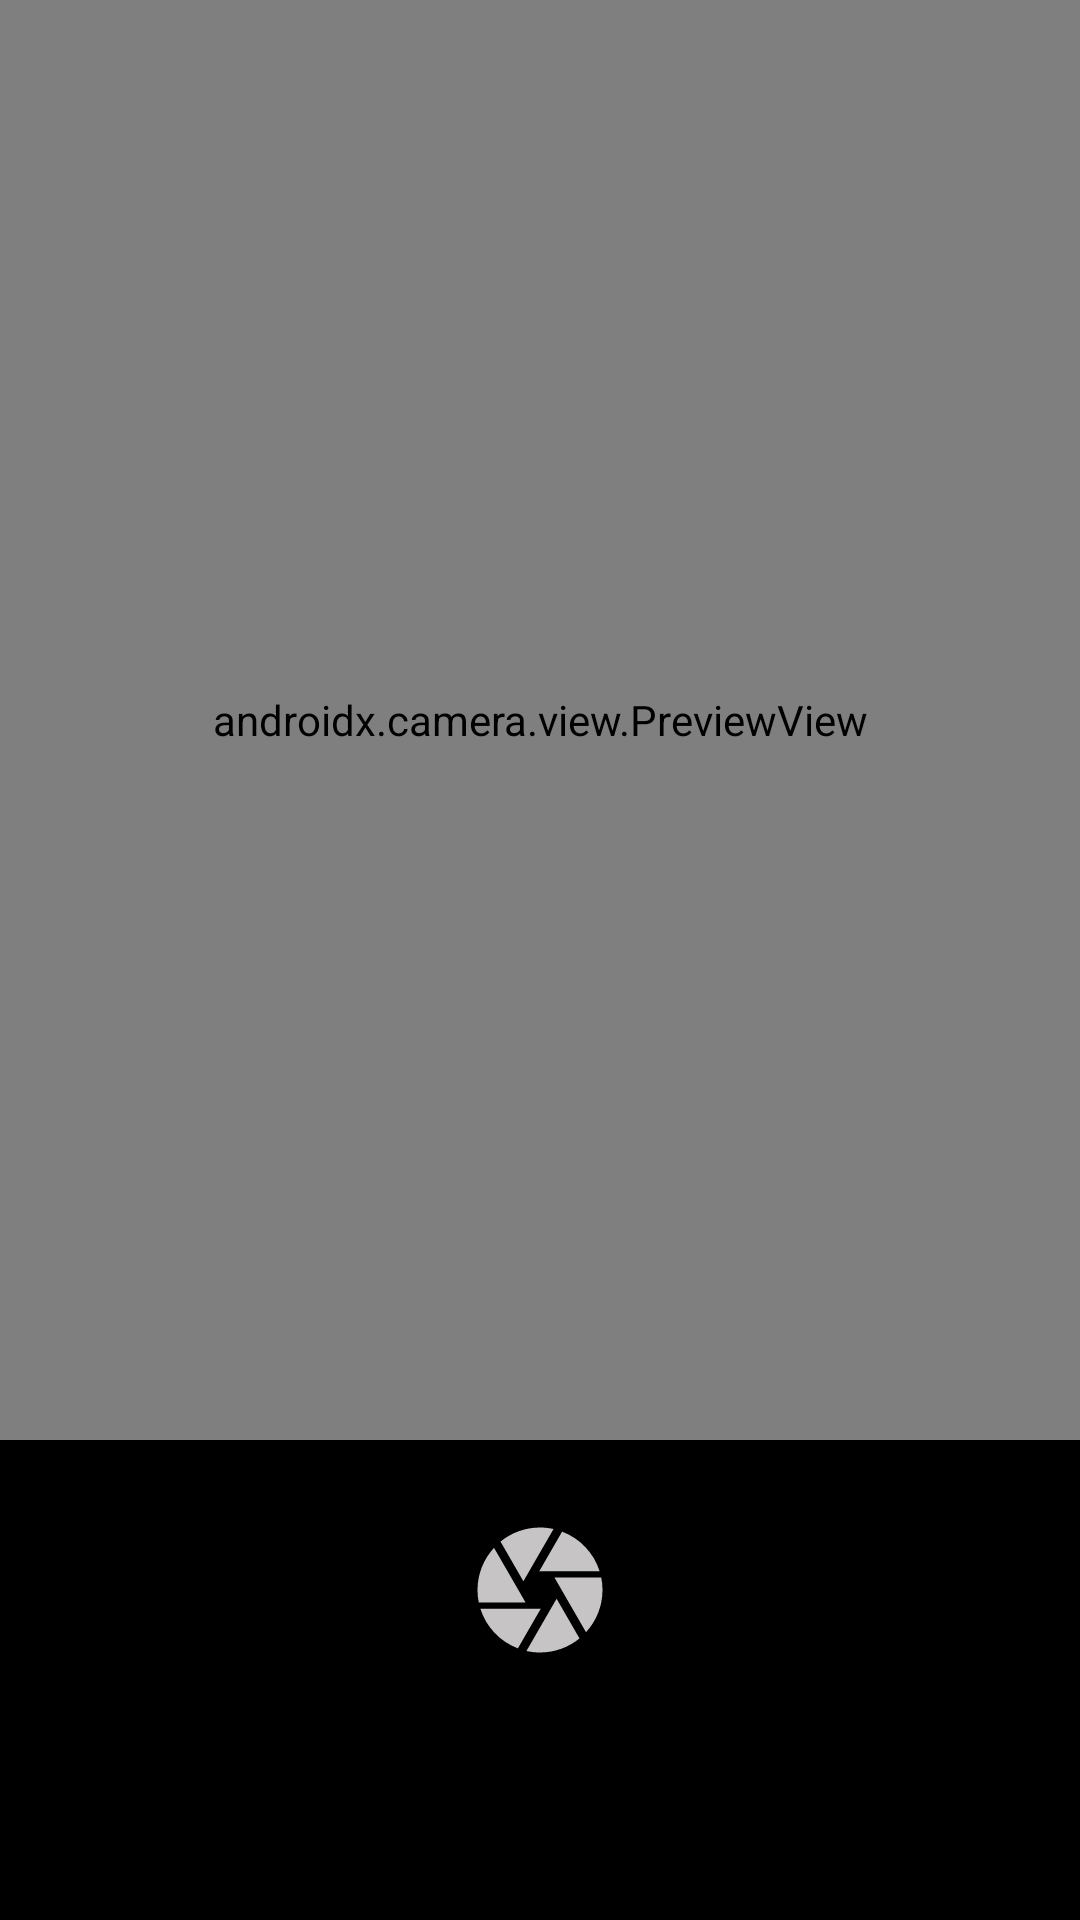

Icon click points for this 1080×1920 phone screenshot, format (x=x, y=y):
capture: (x=540, y=1590)
